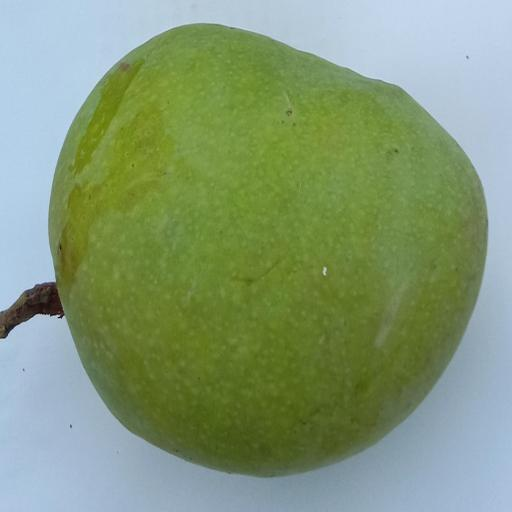mango-unripe: (27, 25, 512, 482)
